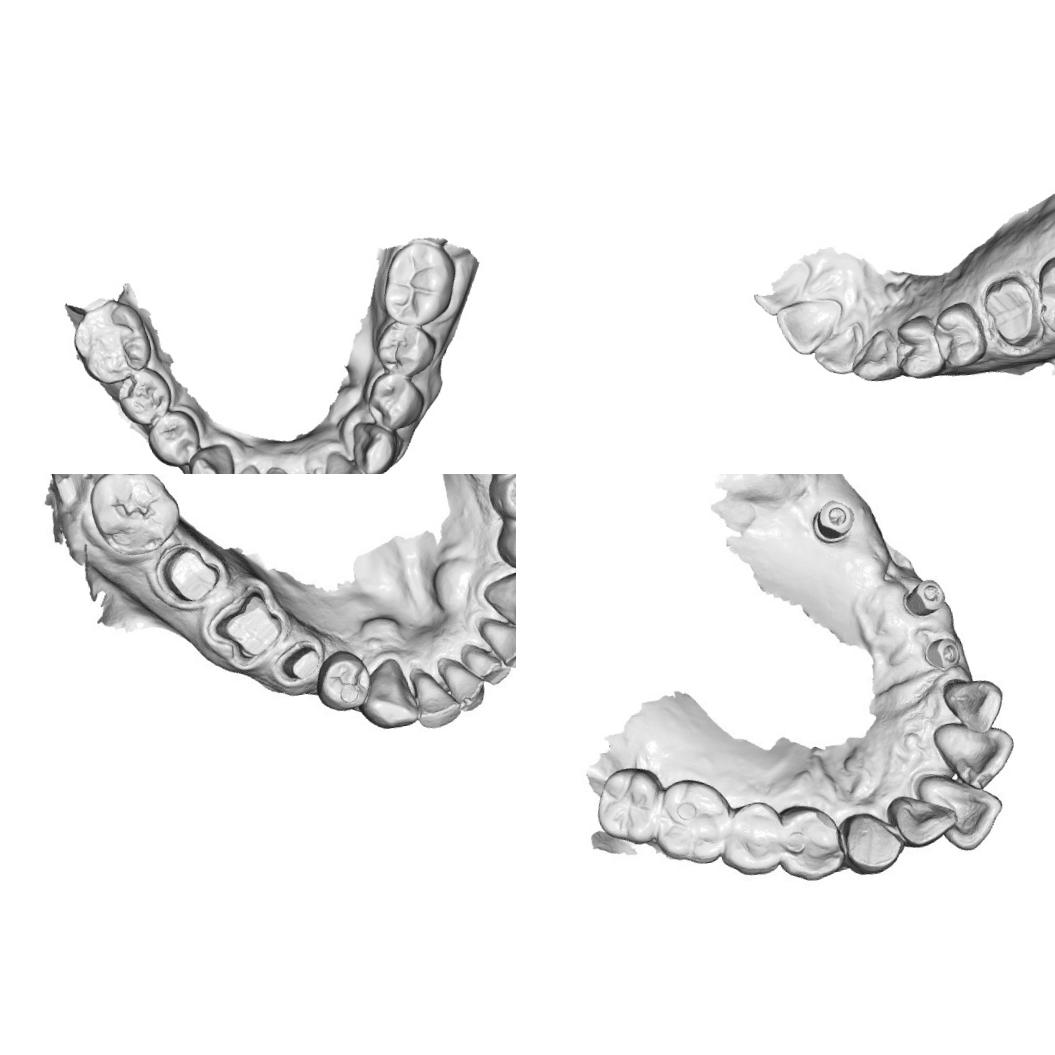canine: (352, 652, 424, 734), (837, 807, 902, 884), (844, 324, 904, 390), (344, 414, 405, 474), (477, 566, 516, 630), (182, 439, 240, 474)
crown: (978, 269, 1045, 354), (215, 590, 286, 663), (158, 537, 224, 606), (274, 638, 322, 684)
implant: (807, 496, 865, 549), (903, 572, 950, 625), (923, 633, 966, 675)
incisor: (919, 770, 1009, 858), (931, 713, 1018, 799), (770, 291, 853, 361), (935, 671, 1008, 740), (890, 790, 958, 852), (804, 318, 869, 381), (437, 650, 496, 716), (460, 638, 514, 697), (412, 664, 457, 727), (480, 612, 516, 673), (314, 444, 373, 474)
molar: (83, 474, 190, 563), (65, 294, 159, 392), (370, 235, 463, 332), (646, 775, 738, 869), (589, 762, 670, 850), (1027, 243, 1055, 340)
premolar: (773, 800, 847, 887), (717, 798, 790, 881), (369, 313, 442, 386), (358, 368, 430, 437), (110, 365, 179, 434), (141, 404, 206, 471), (931, 297, 988, 373), (892, 310, 950, 384), (312, 644, 374, 712), (486, 474, 516, 525), (491, 517, 516, 575)
